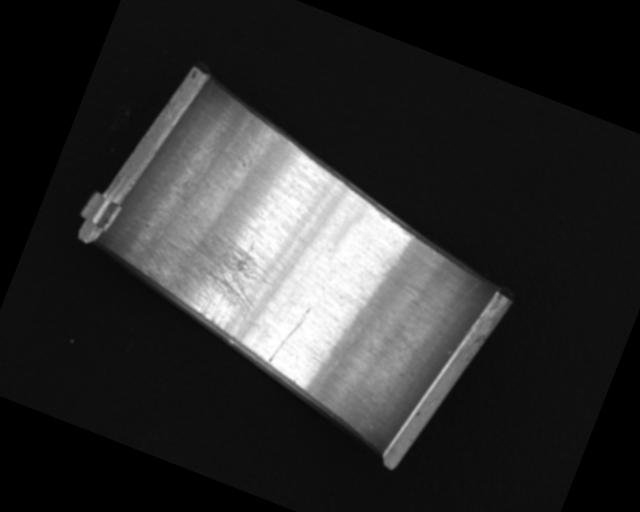nick: (402, 262, 479, 366), (267, 300, 312, 369)
scratch: (132, 209, 276, 342)
